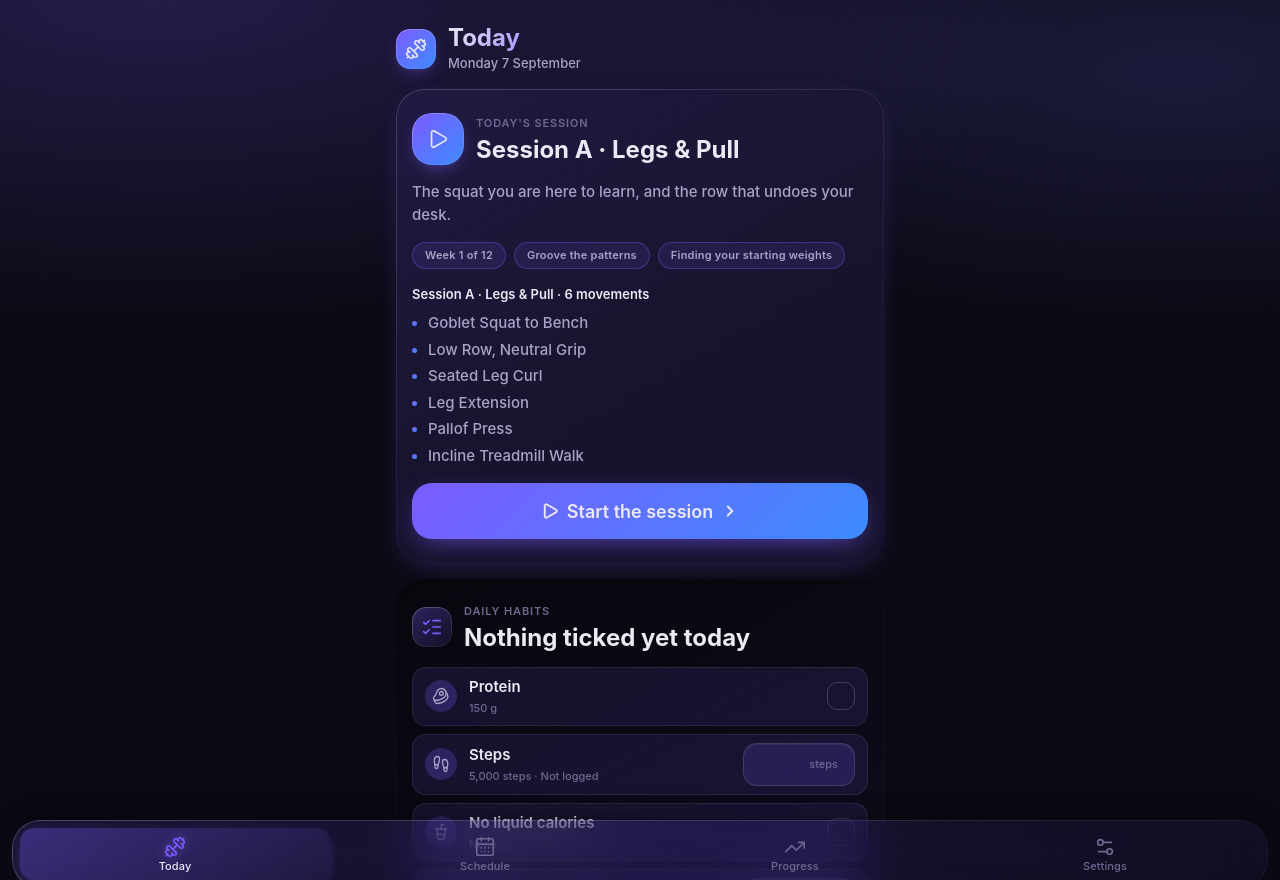
App › navigates to Settings when the Settings tab is tapped
What coordinates should you click on to do the following:
click the link "Settings"
I would click on:
 (1105, 854)
Its box is [1083,836,1127,873].
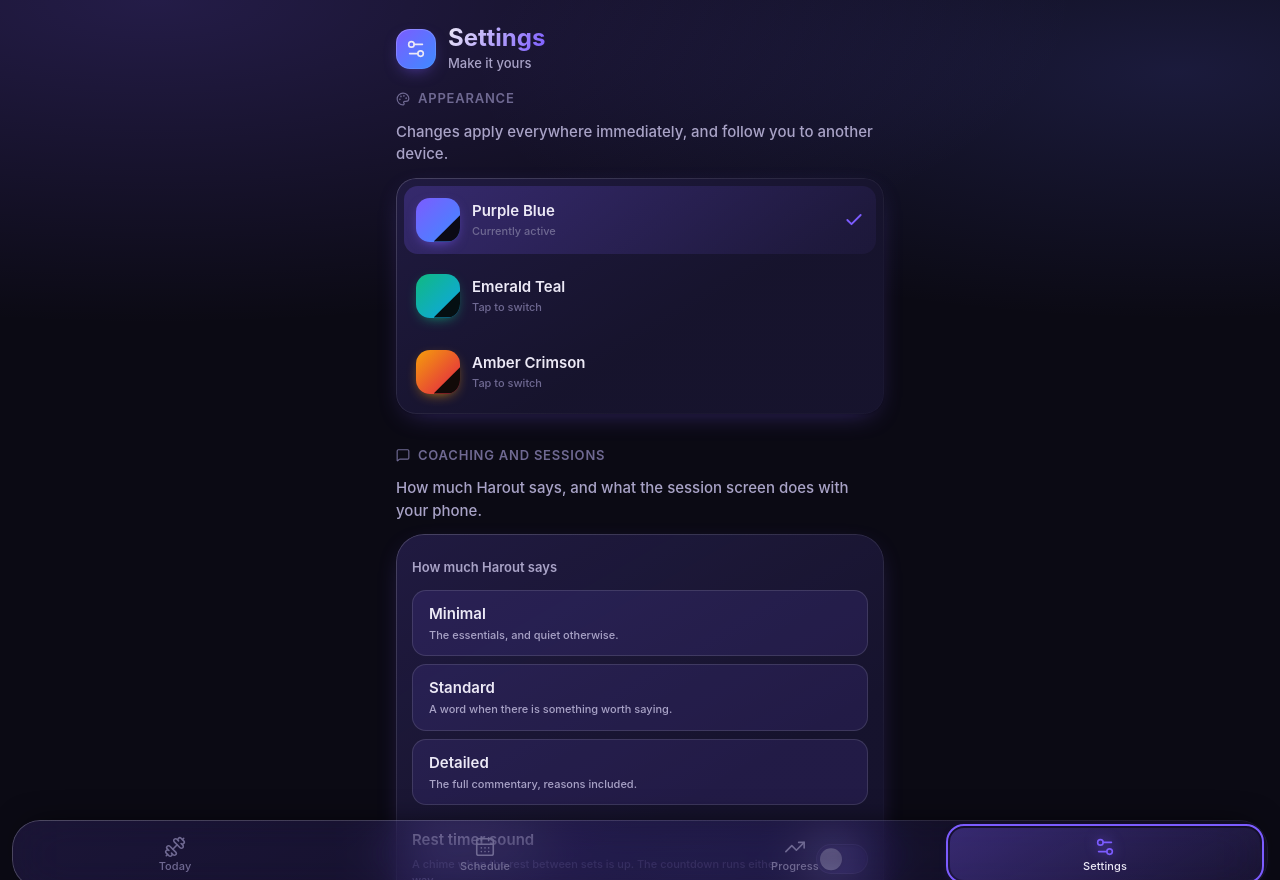
Check: the heading "Settings" is shown, box [448,24,545,52]
